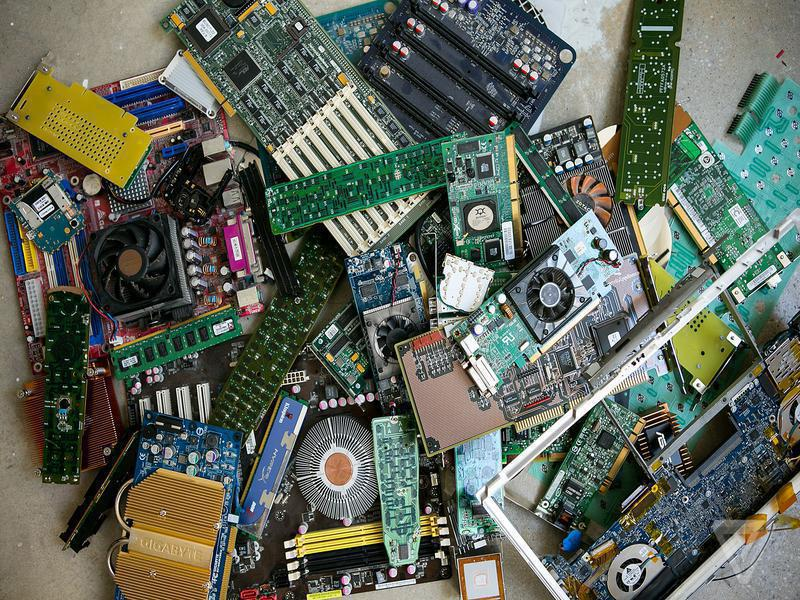circuit_board: (154, 1, 449, 258), (3, 144, 273, 385), (447, 208, 628, 405), (354, 1, 580, 148), (105, 399, 247, 600), (667, 124, 795, 310), (260, 128, 466, 239), (9, 60, 157, 191), (528, 397, 650, 535), (611, 1, 686, 212), (341, 244, 431, 417), (35, 279, 96, 494), (358, 408, 439, 569), (434, 128, 527, 265)
